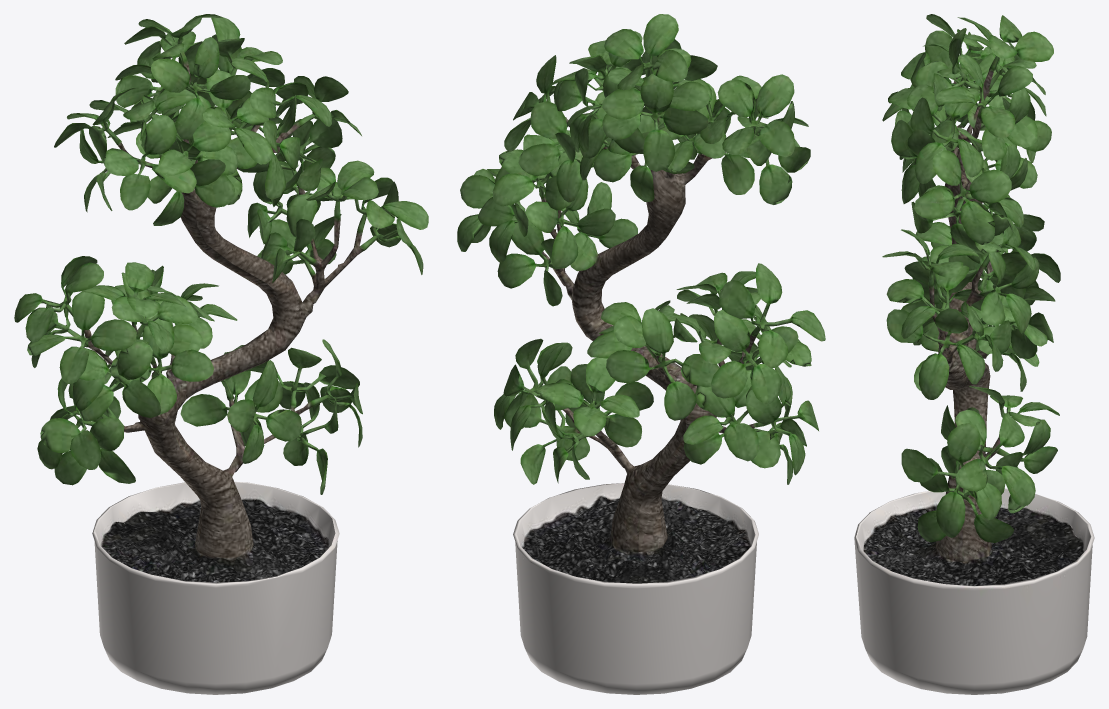
File: Plant5.glb
3 renders of one model, left to right at view 1: azimuth 30°, elevation 25°; view 2: azimuth 150°, elevation 25°; view 3: azimuth 270°, elevation 25°, orthographic. The views are drawn at different scales.
Visible parts, largest first — view 1: ProcessedMeshNode; view 2: ProcessedMeshNode; view 3: ProcessedMeshNode.
Part boxes in pixels (x1,y1,x2,y2): ProcessedMeshNode: [14, 14, 428, 694]; ProcessedMeshNode: [457, 14, 825, 694]; ProcessedMeshNode: [854, 14, 1094, 694].
Size of the model in its own units: 0.2932 by 0.4785 by 0.1663.
Materials: 1 (1 with a texture image).
